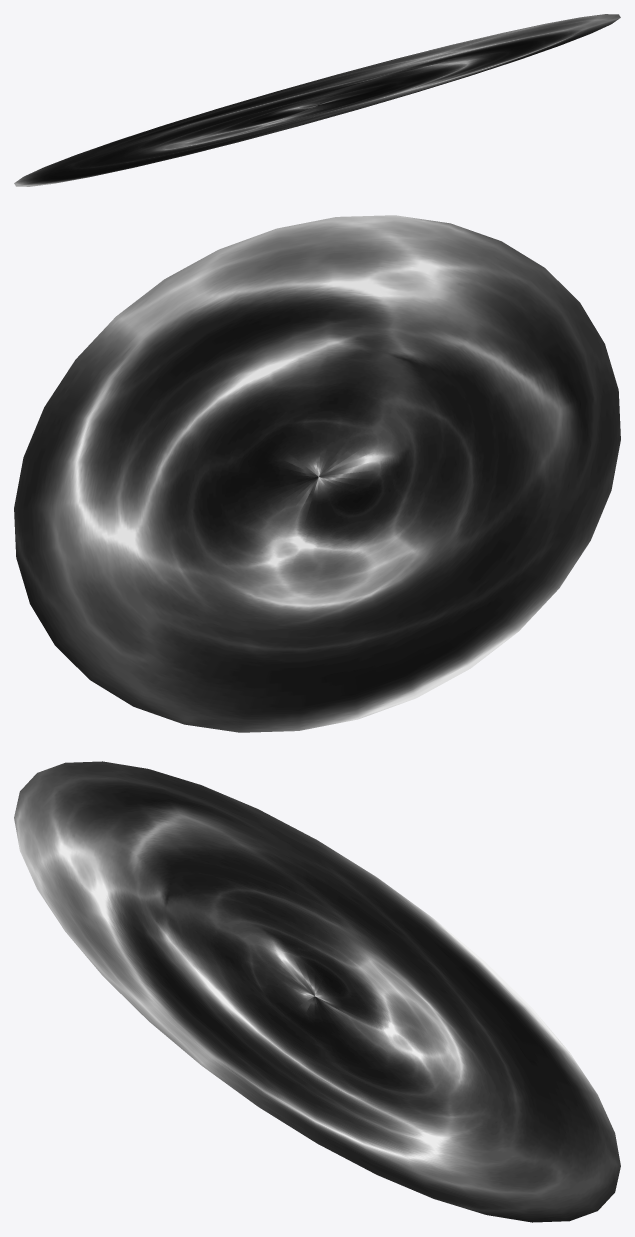
The model's file is fx_m10435_skill03.fbx.
The picture shows the model from 3 angles, top to bottom: view 1: azimuth 30°, elevation 25°; view 2: azimuth 150°, elevation 25°; view 3: azimuth 270°, elevation 25°; orthographic projection. The views are drawn at different scales.
Parts seen in each view (by area): view 1: aura; view 2: aura; view 3: aura.
Boxes of the visible parts, left/top/right/bottom form: aura: left=14, top=14, right=620, bottom=186; aura: left=14, top=215, right=620, bottom=732; aura: left=14, top=761, right=620, bottom=1222.
Bounding box in the file's own units: 2122 × 1135 × 1793.
